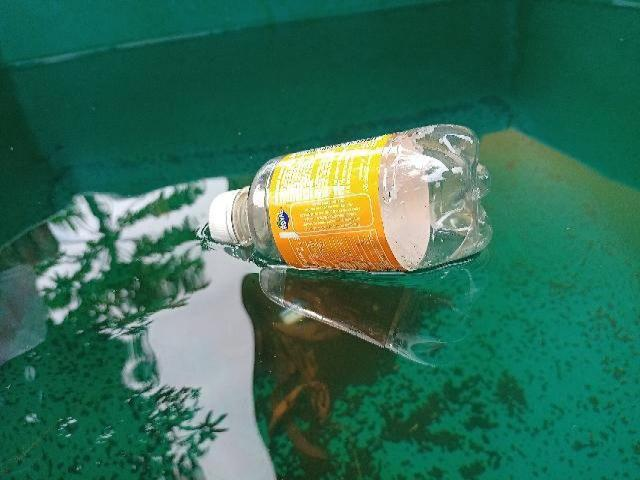Bottle: (195, 117, 506, 278)
